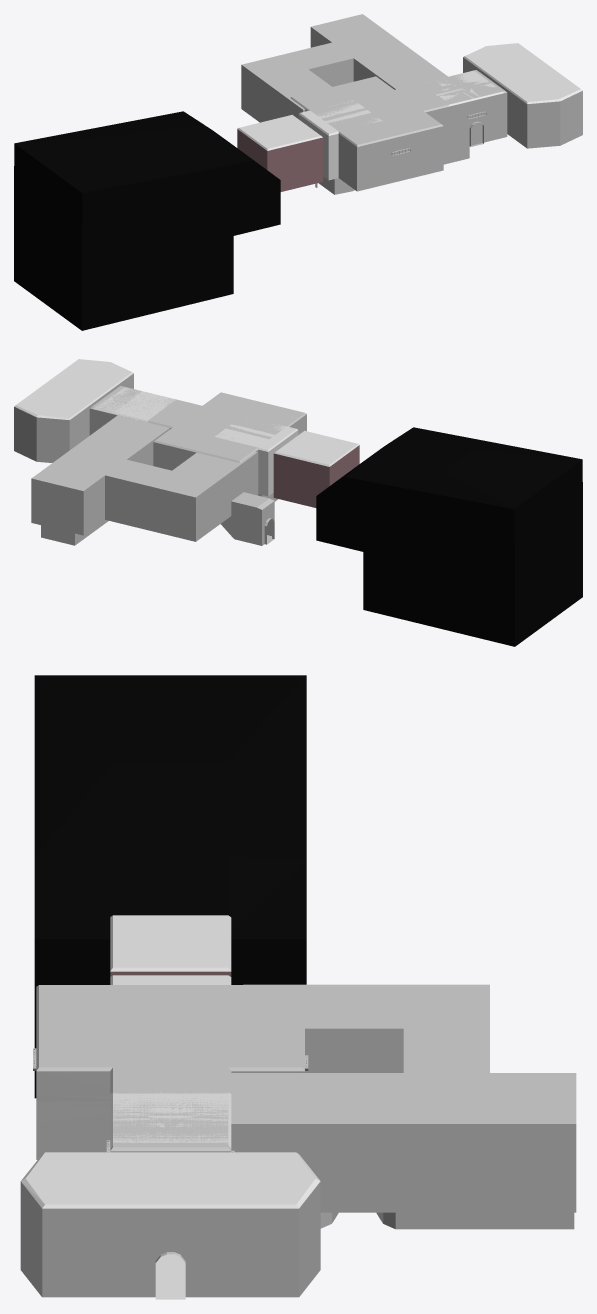
The model's file is map.dae.
The picture shows the model from 3 angles, top to bottom: view 1: azimuth 30°, elevation 25°; view 2: azimuth 150°, elevation 25°; view 3: azimuth 270°, elevation 25°; orthographic projection. The views are drawn at different scales.
Parts seen in each view (by area): view 1: Cube.004, Cube.007, Cube.008, Cube.005, Cube.003, Cube.001, Cube.002, Cube; view 2: Cube.004, Cube.007, Cube.005, Cube.008, Cube.003, Cube.002, Cube.001, Cube; view 3: Cube.004, Cube.007, Cube.005, Cube.008, Cube.003, Cube.001, Cube.002.
Part boxes in pixels (x1,y1,x2,y2): Cube.004: [14, 111, 280, 330]; Cube.007: [241, 14, 507, 164]; Cube.008: [290, 76, 443, 194]; Cube.005: [463, 43, 582, 148]; Cube.003: [237, 114, 323, 191]; Cube.001: [422, 71, 502, 150]; Cube.002: [298, 100, 382, 180]; Cube: [436, 70, 504, 150]; Cube.004: [316, 427, 582, 646]; Cube.007: [31, 386, 274, 545]; Cube.005: [14, 359, 133, 462]; Cube.008: [153, 392, 306, 501]; Cube.003: [273, 430, 359, 507]; Cube.002: [214, 424, 298, 496]; Cube.001: [94, 387, 174, 431]; Cube: [92, 390, 176, 433]; Cube.004: [34, 675, 306, 1098]; Cube.007: [110, 984, 576, 1229]; Cube.005: [20, 1152, 320, 1299]; Cube.008: [33, 985, 308, 1159]; Cube.003: [110, 915, 231, 976]; Cube.001: [110, 1093, 231, 1145]; Cube.002: [110, 975, 231, 984].
Size of the model in its own units: 189 by 90.15 by 49.66.
